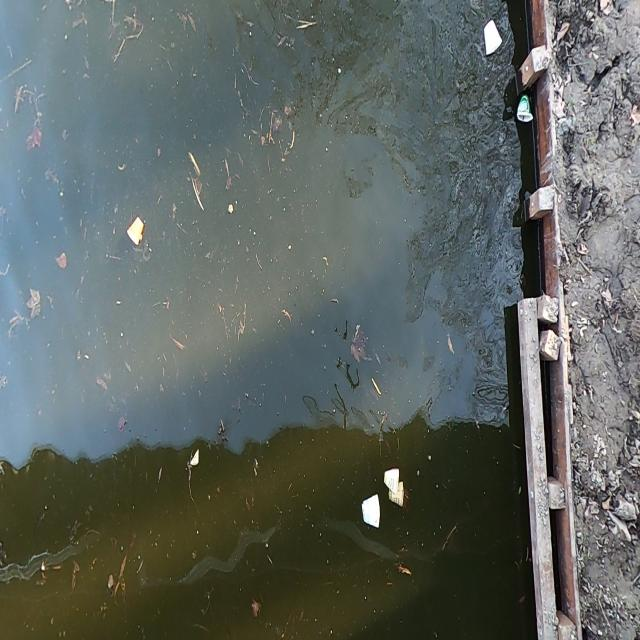Non plastique: (481, 14, 506, 60), (361, 492, 384, 533), (122, 212, 147, 247), (516, 96, 536, 129), (385, 461, 400, 494)
